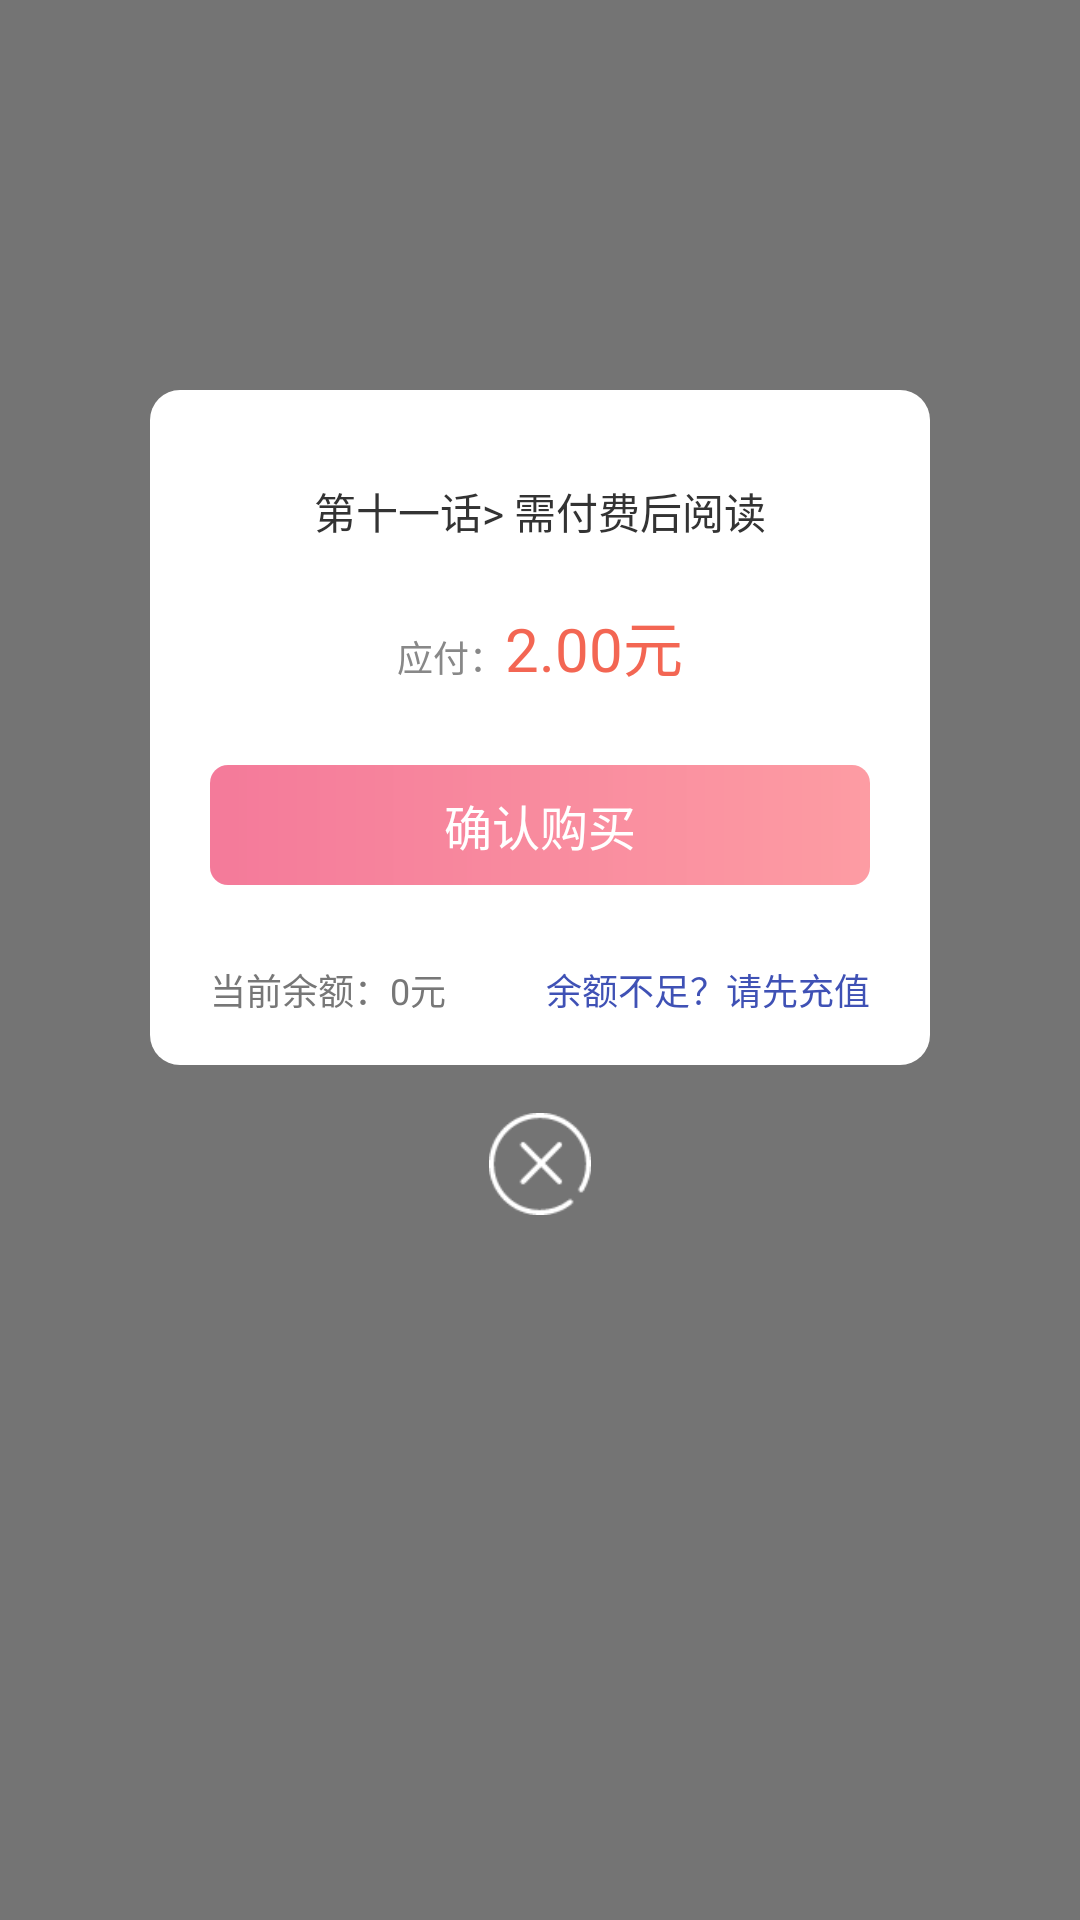

Icon click points for this 1080 × 1920 phone screenshot, format (x,y):
close circle: (540,1164)
